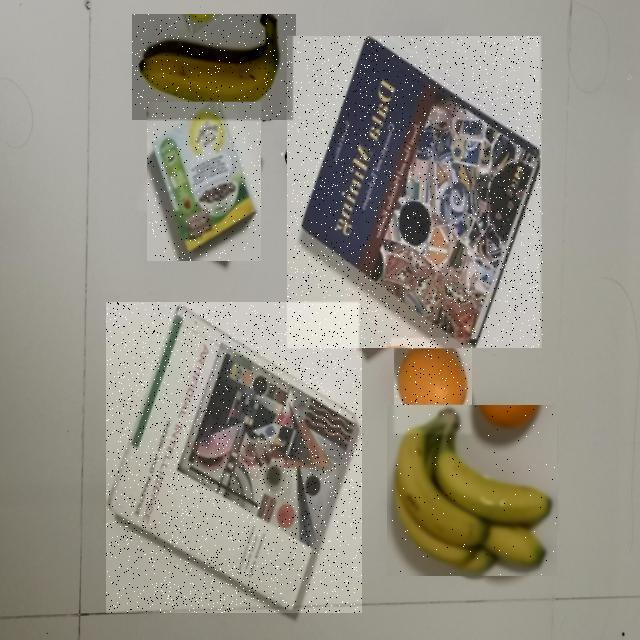Banana: (387, 405, 557, 576), (132, 14, 296, 120)
Book: (288, 36, 544, 348), (106, 302, 362, 613)
Cereal: (147, 102, 261, 261)
Orange: (394, 338, 472, 434)
